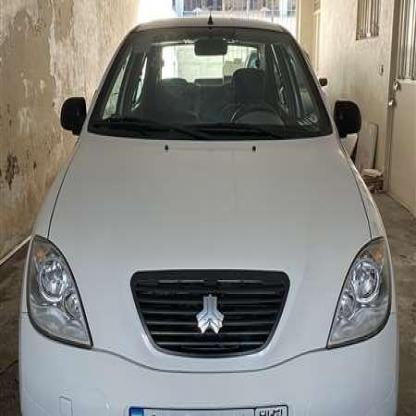Car: (15, 22, 400, 416)
